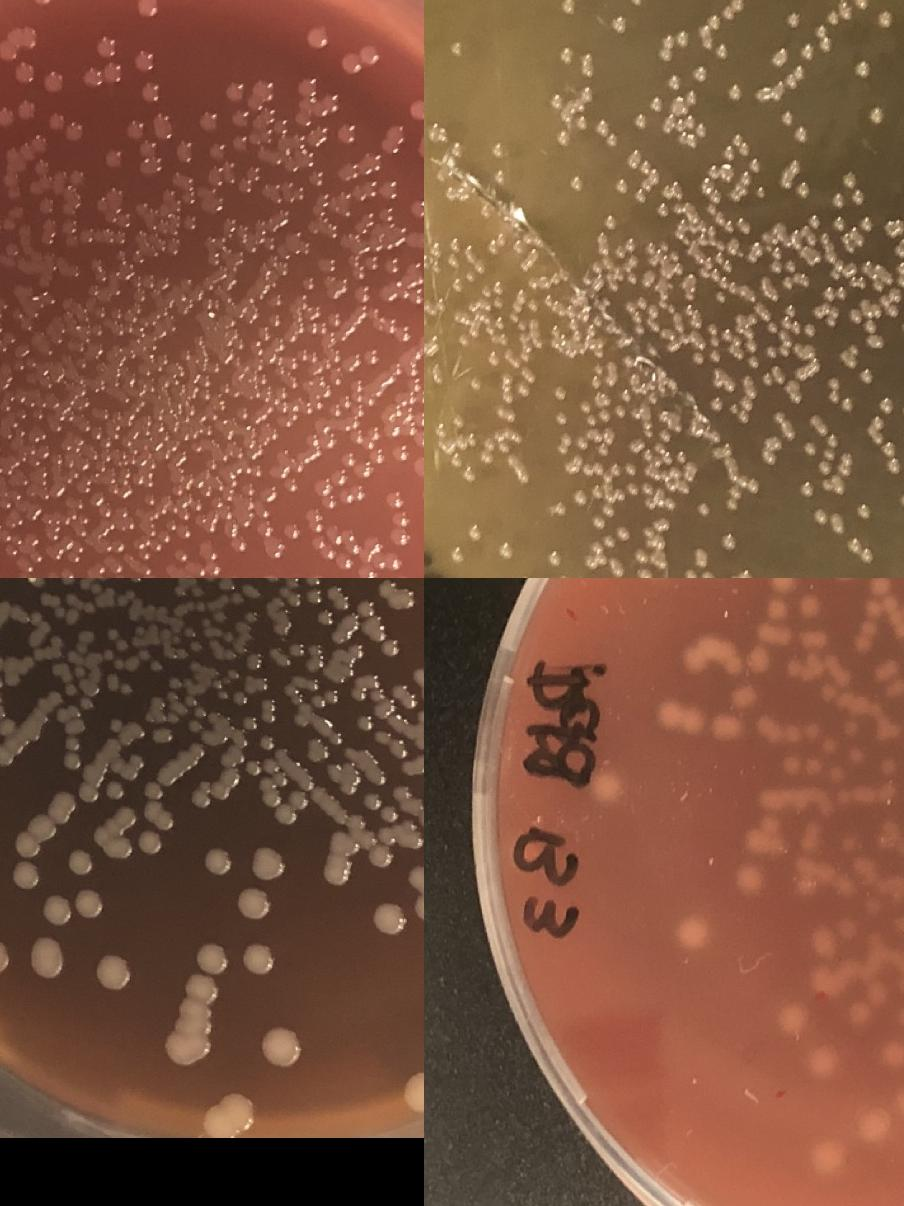assalmonicida: (163, 941, 230, 1066), (218, 732, 308, 824), (9, 788, 78, 892), (142, 739, 206, 802), (362, 790, 398, 868), (40, 885, 107, 926), (202, 1092, 256, 1138), (260, 1024, 303, 1066), (92, 806, 136, 846), (708, 250, 741, 303), (697, 6, 735, 50), (28, 937, 67, 977), (704, 188, 736, 232), (61, 714, 86, 770), (122, 644, 166, 674), (672, 113, 708, 148), (780, 302, 816, 336), (373, 901, 408, 935), (240, 941, 275, 975), (250, 846, 284, 880), (236, 885, 269, 920), (96, 954, 128, 990), (578, 392, 611, 426), (202, 844, 234, 877), (64, 846, 96, 878), (373, 727, 408, 756), (392, 782, 422, 815), (658, 31, 690, 61), (402, 1070, 424, 1112), (565, 454, 606, 476), (185, 700, 209, 737), (613, 236, 640, 268), (390, 680, 418, 710), (880, 440, 903, 476), (878, 287, 904, 318), (320, 859, 348, 887), (135, 828, 163, 856), (332, 614, 358, 644), (348, 684, 386, 704), (778, 159, 802, 190), (330, 830, 356, 858), (728, 172, 752, 202), (592, 502, 615, 530), (326, 583, 348, 611), (490, 278, 508, 312), (754, 81, 786, 100), (604, 526, 630, 548), (826, 3, 853, 24), (726, 401, 752, 422), (814, 23, 832, 51), (730, 131, 750, 155), (891, 240, 904, 275), (741, 376, 760, 399), (769, 258, 798, 273), (726, 486, 744, 510), (556, 430, 573, 455), (636, 566, 671, 578), (412, 889, 424, 924), (400, 758, 420, 778), (381, 637, 401, 657), (356, 712, 376, 732), (240, 712, 260, 732), (230, 687, 250, 707), (104, 779, 124, 799), (245, 653, 266, 672), (810, 414, 828, 436), (626, 272, 654, 286), (116, 680, 136, 699), (707, 164, 733, 178), (590, 428, 616, 442), (878, 394, 896, 414), (868, 104, 886, 124), (854, 58, 872, 78), (192, 789, 210, 809), (188, 636, 206, 656), (106, 713, 124, 733), (882, 219, 904, 234), (415, 667, 424, 703), (380, 578, 398, 596), (356, 599, 374, 617), (338, 778, 356, 796), (316, 608, 334, 626), (306, 656, 324, 674), (304, 588, 322, 606), (830, 513, 846, 533), (694, 546, 710, 566), (840, 452, 854, 474), (367, 768, 384, 786), (0, 652, 8, 690), (216, 578, 236, 593), (860, 367, 874, 388), (490, 141, 508, 157), (448, 276, 466, 292), (468, 523, 485, 539), (468, 375, 485, 391), (58, 578, 84, 588), (654, 516, 670, 532), (584, 554, 600, 570), (492, 168, 508, 184), (456, 331, 472, 347), (486, 239, 503, 254), (666, 337, 682, 352), (499, 542, 514, 558), (488, 350, 503, 366), (446, 253, 461, 269), (858, 216, 874, 230), (590, 484, 606, 498), (548, 549, 562, 565), (452, 545, 466, 561), (452, 141, 466, 157), (448, 235, 462, 251), (452, 413, 466, 428), (424, 339, 438, 354), (864, 318, 878, 332), (850, 189, 864, 203), (848, 308, 862, 322), (843, 172, 857, 186), (807, 214, 821, 228), (804, 440, 818, 454), (800, 43, 814, 57), (796, 182, 810, 196), (794, 126, 808, 140), (792, 64, 806, 78), (786, 12, 800, 26), (780, 276, 794, 290), (780, 109, 794, 123), (765, 344, 779, 358), (761, 372, 775, 386), (754, 184, 768, 198), (750, 242, 764, 256), (748, 158, 762, 172), (747, 478, 761, 492), (747, 355, 761, 369), (728, 85, 742, 99), (715, 43, 729, 57), (710, 396, 724, 410), (708, 347, 722, 361), (706, 320, 720, 334), (694, 500, 708, 514), (693, 66, 707, 80), (692, 350, 706, 364), (686, 89, 700, 103), (672, 449, 686, 463), (662, 497, 676, 511), (655, 203, 669, 217), (650, 96, 664, 110), (638, 160, 652, 174), (634, 188, 648, 202), (634, 112, 648, 126), (626, 462, 640, 476), (614, 176, 628, 190), (608, 462, 622, 476), (605, 133, 619, 147), (602, 214, 616, 228), (597, 242, 611, 256), (596, 444, 610, 458), (590, 260, 604, 274), (576, 436, 590, 450), (574, 490, 588, 504), (558, 130, 572, 144), (554, 500, 568, 514), (728, 570, 752, 578), (869, 334, 882, 348), (832, 217, 846, 230), (744, 312, 758, 325), (668, 75, 682, 88), (658, 427, 671, 441), (613, 562, 626, 576), (613, 402, 626, 416), (613, 16, 626, 30), (554, 412, 568, 425), (549, 93, 562, 107), (722, 146, 735, 159), (562, 0, 575, 13), (860, 550, 874, 562), (840, 397, 854, 409), (832, 194, 846, 206), (828, 375, 840, 389), (822, 447, 836, 459), (818, 460, 832, 472), (800, 482, 814, 494), (765, 320, 779, 332), (746, 338, 758, 352), (738, 222, 752, 234), (722, 536, 736, 548), (668, 466, 682, 478), (644, 241, 658, 253), (636, 548, 648, 562), (630, 438, 644, 450), (626, 482, 640, 494), (570, 176, 584, 188), (636, 296, 648, 309), (684, 567, 698, 578), (858, 504, 870, 516), (828, 391, 840, 403), (828, 433, 840, 445), (822, 478, 834, 490), (814, 509, 826, 521), (674, 227, 686, 239), (661, 185, 673, 197), (657, 298, 669, 310), (647, 255, 659, 267), (634, 323, 646, 335), (624, 355, 636, 367), (620, 388, 632, 400), (607, 280, 619, 292), (554, 386, 566, 398), (660, 240, 671, 252), (854, 0, 868, 8), (899, 489, 904, 509), (702, 571, 716, 578), (557, 574, 574, 578)
pddamselae: (852, 578, 904, 656), (656, 699, 706, 736), (870, 653, 904, 699), (775, 1000, 810, 1036), (802, 1042, 838, 1076), (820, 666, 852, 702), (780, 752, 824, 776), (808, 924, 840, 956), (744, 642, 776, 674), (846, 996, 876, 1026), (878, 1035, 904, 1068), (798, 592, 826, 620), (735, 865, 763, 893), (715, 712, 742, 740), (678, 917, 706, 944), (593, 773, 621, 800), (862, 892, 888, 918), (878, 754, 903, 778), (889, 1079, 904, 1115), (841, 832, 863, 854), (801, 721, 823, 743), (784, 656, 806, 678), (768, 578, 796, 592), (850, 745, 867, 763), (844, 718, 859, 736), (830, 765, 844, 783), (824, 736, 838, 754)
vangil: (314, 449, 375, 513), (12, 134, 48, 173), (0, 26, 38, 59), (342, 44, 378, 71), (237, 164, 263, 194), (392, 510, 411, 546), (382, 124, 404, 154), (352, 178, 380, 201), (255, 80, 275, 101), (226, 80, 246, 101), (336, 122, 356, 142), (322, 92, 342, 112), (298, 76, 318, 96), (284, 521, 304, 541), (231, 132, 251, 152), (199, 111, 219, 131), (176, 141, 196, 161), (142, 82, 162, 102), (126, 118, 146, 138), (308, 29, 328, 48), (231, 107, 250, 127), (138, 138, 157, 158), (135, 51, 155, 70), (362, 348, 382, 366), (362, 254, 382, 272), (83, 68, 102, 86), (15, 64, 34, 82), (411, 197, 424, 223), (386, 488, 404, 506), (386, 552, 404, 570), (383, 256, 401, 274), (379, 284, 397, 302), (354, 284, 372, 302), (340, 161, 358, 179), (337, 550, 355, 568), (318, 255, 336, 273), (308, 168, 326, 186), (300, 272, 318, 290), (294, 109, 312, 127), (266, 542, 284, 560), (209, 142, 227, 160), (206, 168, 224, 186), (180, 189, 198, 207), (102, 63, 120, 81), (48, 111, 66, 129), (45, 72, 63, 90), (23, 530, 41, 548), (15, 101, 34, 118), (322, 222, 340, 239), (98, 37, 115, 55), (66, 123, 84, 140), (414, 229, 424, 259), (137, 0, 157, 15), (366, 536, 384, 552), (38, 196, 56, 212), (410, 99, 424, 118), (358, 564, 376, 578), (0, 107, 14, 125), (414, 455, 424, 475), (184, 216, 198, 228), (208, 254, 220, 266), (106, 211, 118, 223), (41, 175, 53, 187), (227, 573, 247, 578), (261, 573, 280, 578)
